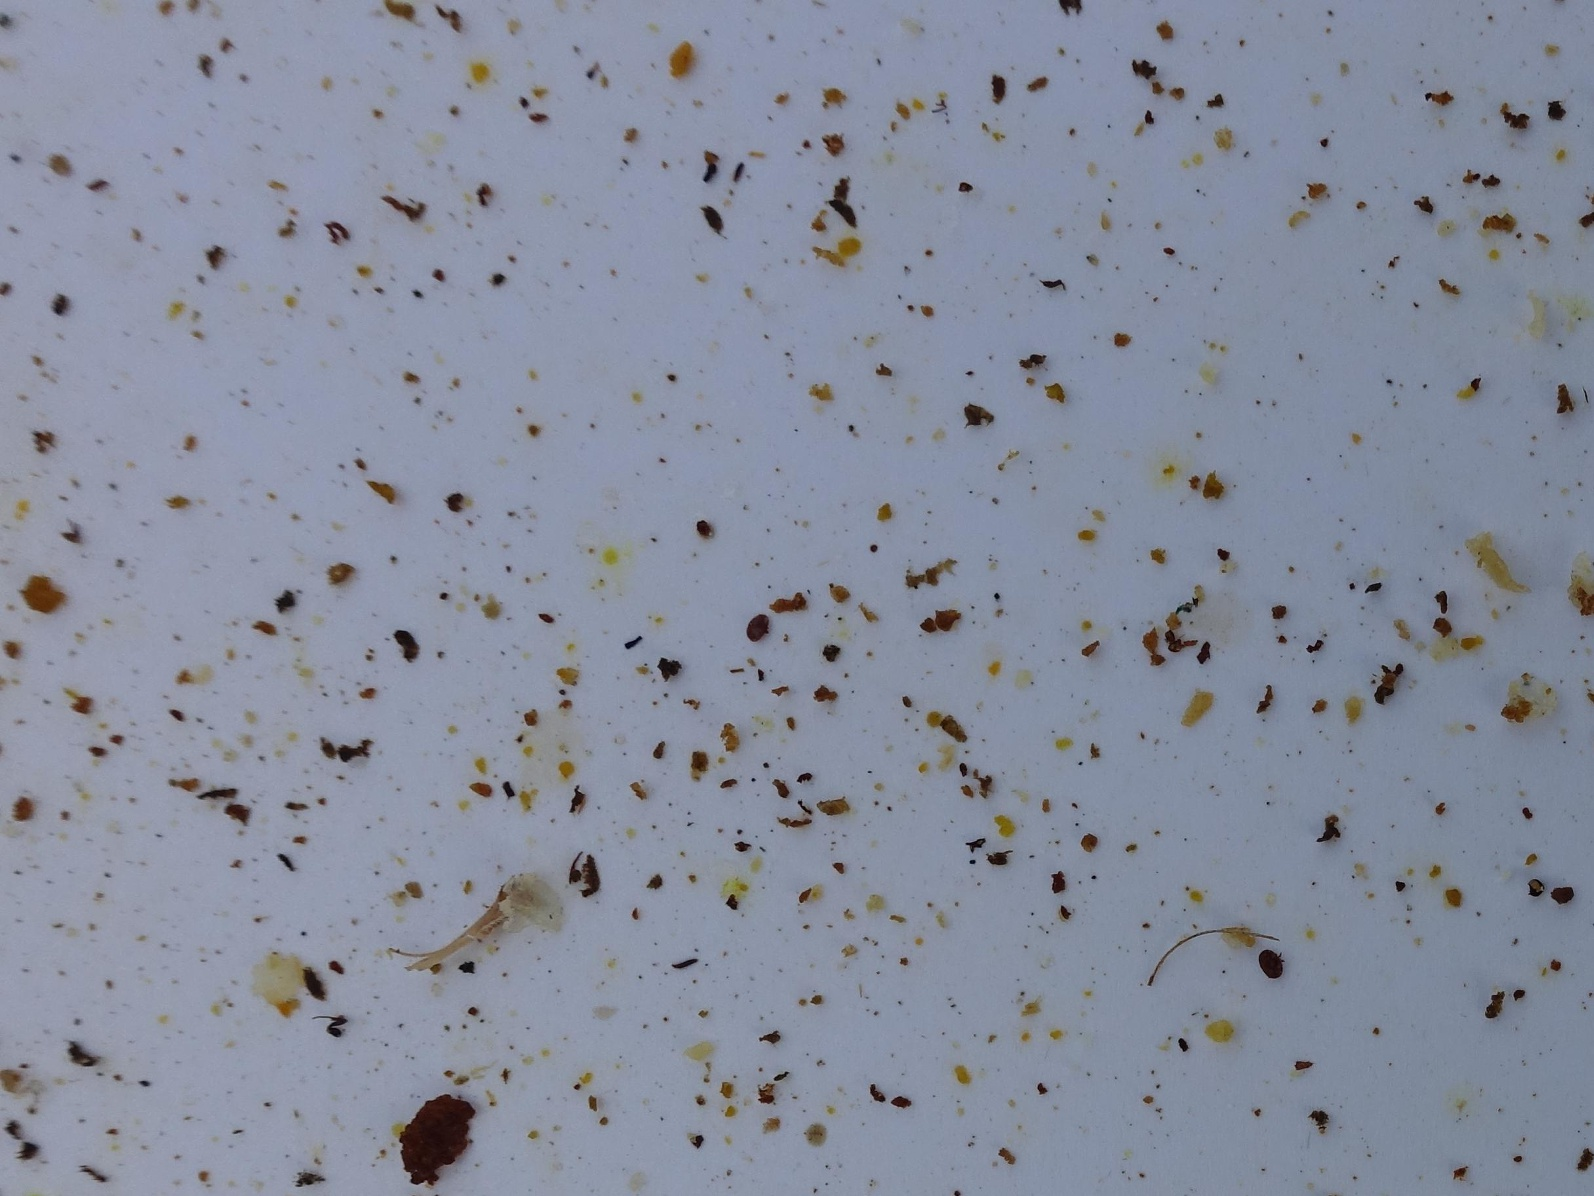Varroa: (1254, 945, 1291, 982), (739, 609, 778, 646)
